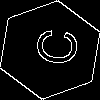C: (25, 25, 80, 68)
